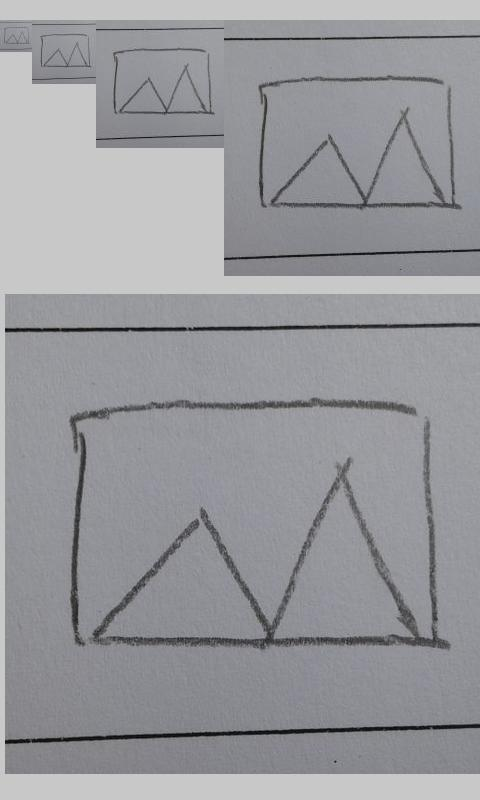image_view: (63, 395, 442, 652), (258, 74, 455, 210), (112, 48, 213, 115), (40, 33, 91, 68), (3, 26, 30, 45)
